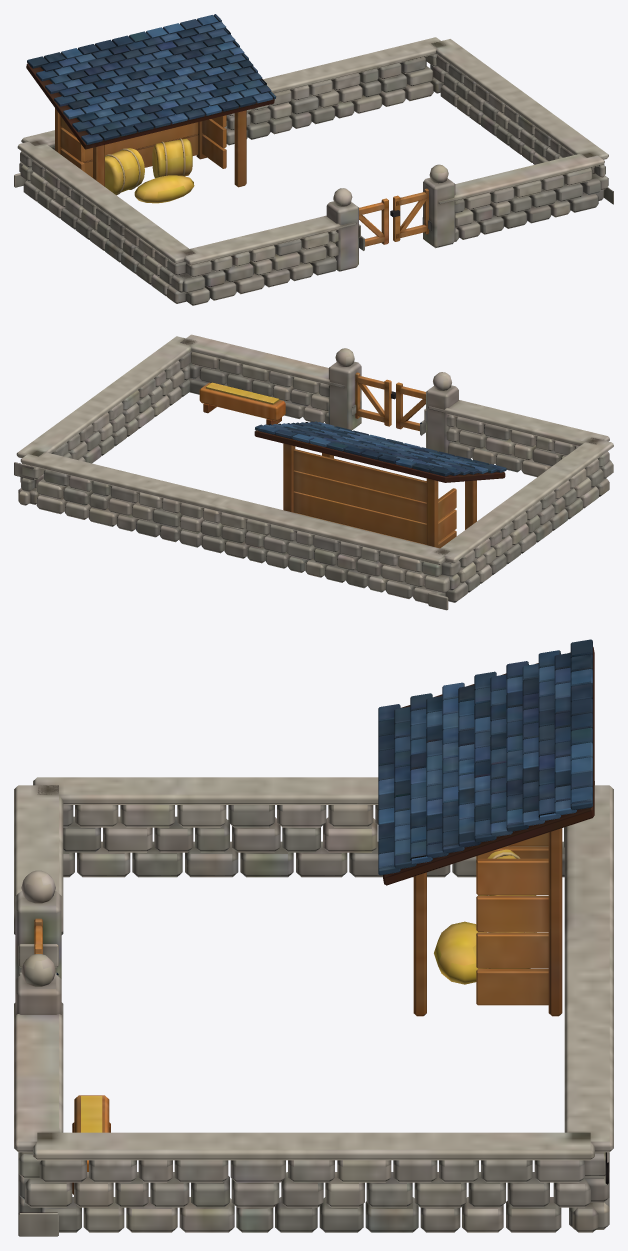
The model's file is galloway_pasture.glb.
3 views of the same model, one above another, from view 1: azimuth 30°, elevation 25°; view 2: azimuth 150°, elevation 25°; view 3: azimuth 270°, elevation 25° (orthographic). The views are drawn at different scales.
Visible parts, largest first — view 1: galloway_pasture, gate1, gate0; view 2: galloway_pasture, gate1, gate0; view 3: galloway_pasture.
Part boxes in pixels (<box>): galloway_pasture: <box>14,14,613,305</box>; gate1: <box>390,188,428,241</box>; gate0: <box>359,198,388,246</box>; galloway_pasture: <box>14,334,613,610</box>; gate1: <box>355,372,395,426</box>; gate0: <box>396,382,425,431</box>; galloway_pasture: <box>14,639,613,1236</box>.
Bounding box in the file's own units: 3.07 × 0.9344 × 2.07.
Materials: 1 (1 with a texture image).
